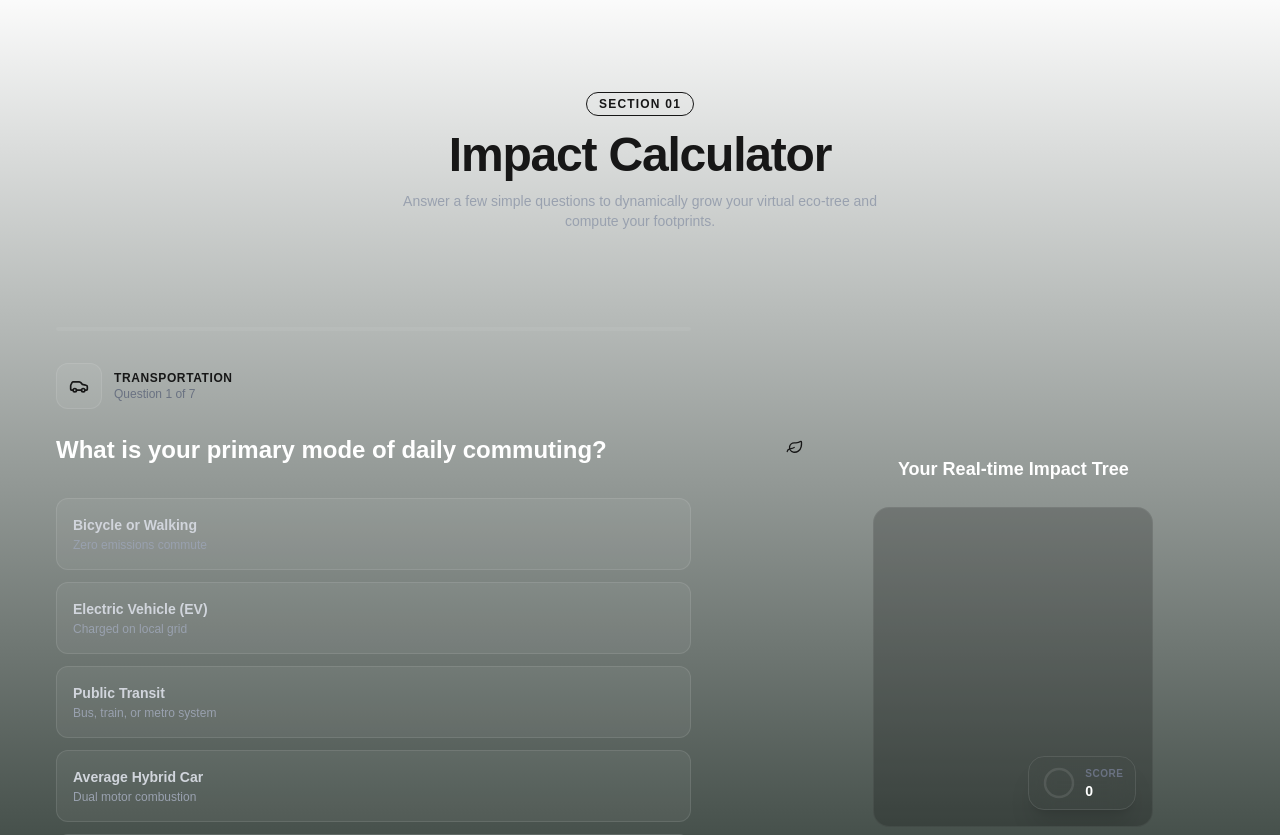
Test: CarbonCalculator Component › clicking continue navigates to next step and grants XP
The width and height of the screenshot is (1280, 835).
// Click option to reveal continue button
Click the text "Bicycle or Walking" at (140, 525), box [73,515,207,535]
(page scrolled)
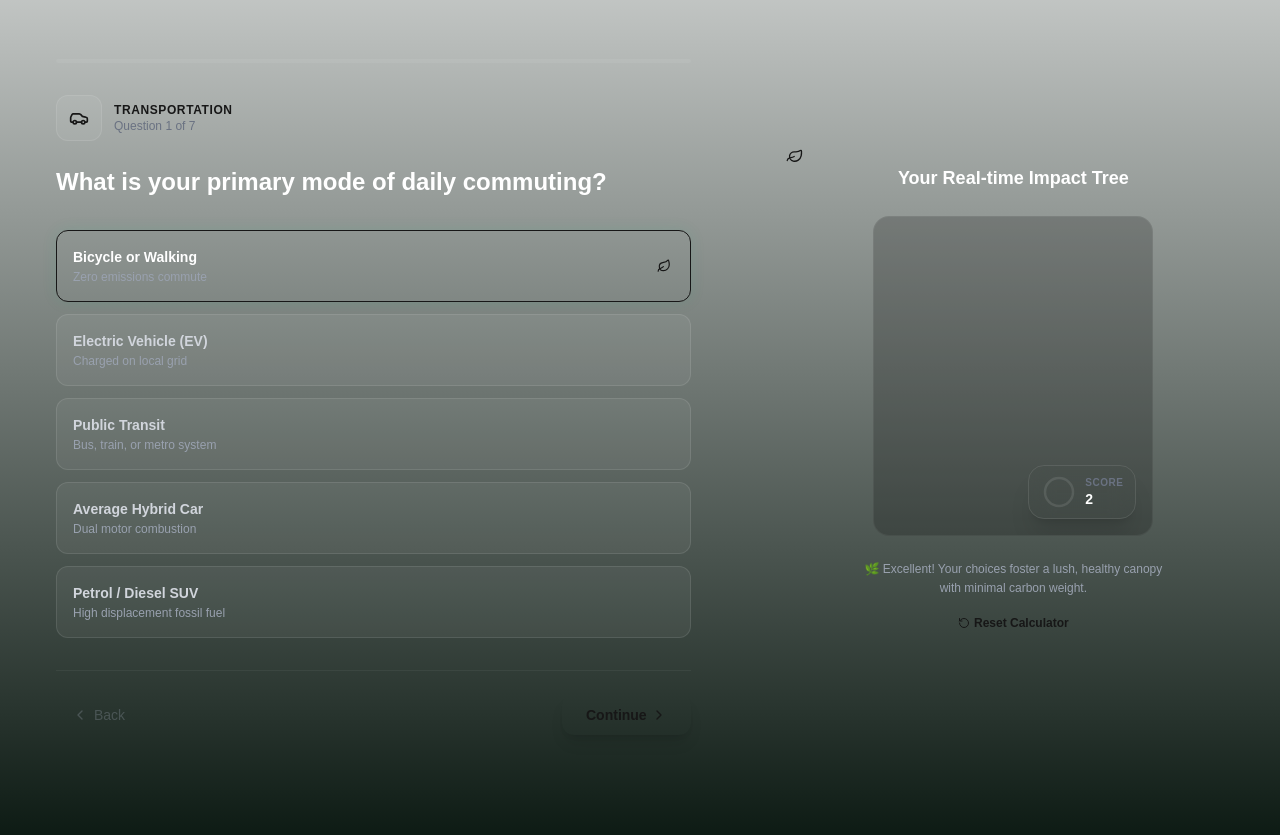
// Find the "Continue" button and click it
Click the button "Continue" at (626, 715), box [562,695,691,735]
(page scrolled)
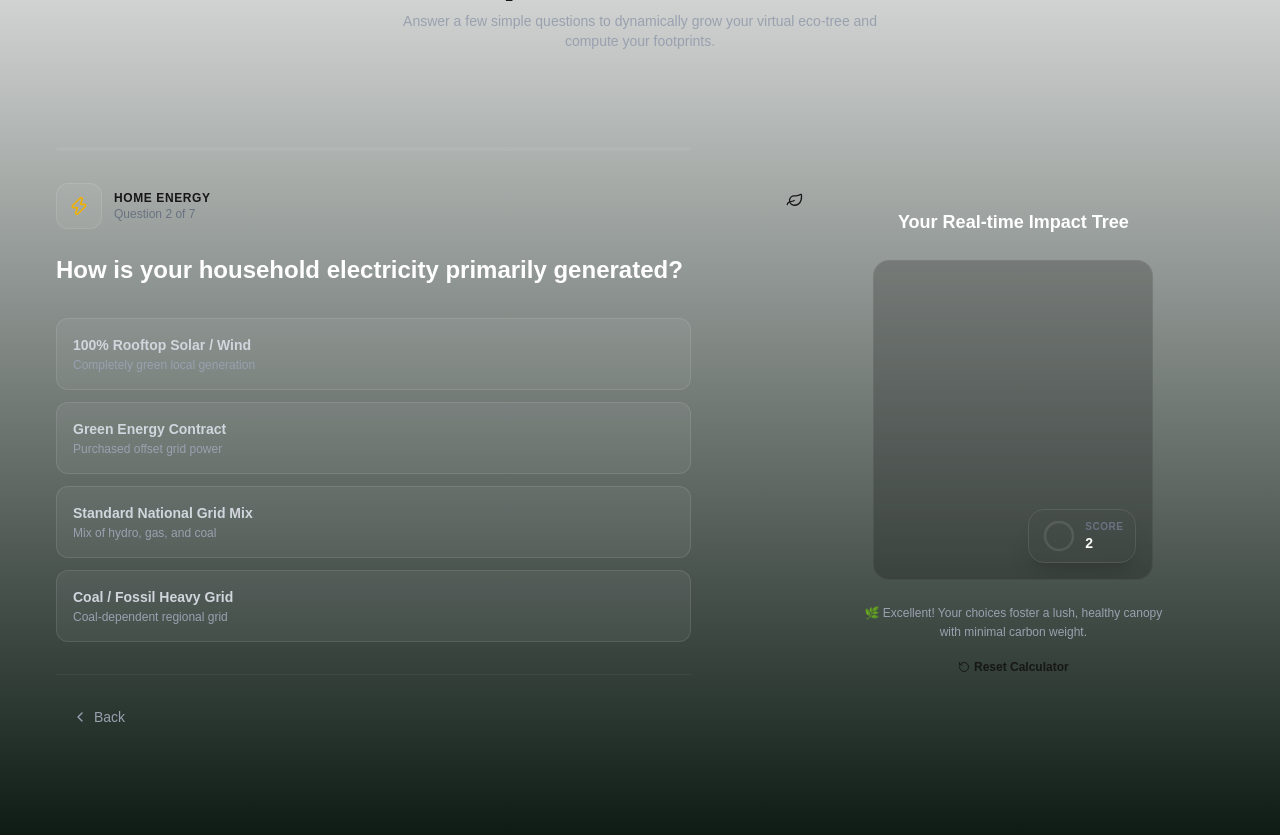
expect the heading "How is your household electricity primarily generated?" is shown: met, box [56,253,691,286]
